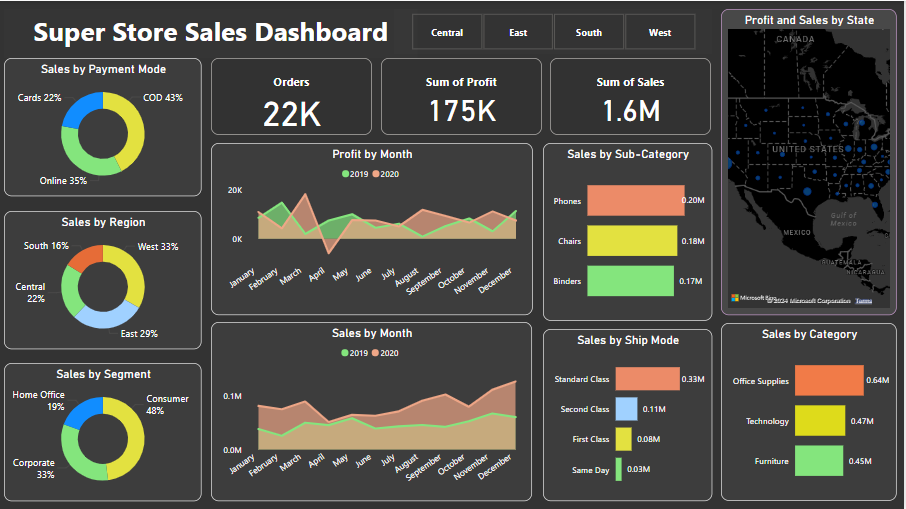

This screenshot's page, from the dashboard's own definition file:
{"tool":"powerbi","page":{"name":"Page 1","canvas":[1280,720],"ordinal":0},"visuals":[{"type":"clusteredBarChart","title":"Sales by Category","fields":{"Category":["SuperStore_Sales_Dataset.Category"],"Y":["Sum(SuperStore_Sales_Dataset.Sales)"]},"box":[1021.2,456.9,249.1,251.9],"z":0},{"type":"clusteredBarChart","title":"Sales by Sub-Category","fields":{"Category":["SuperStore_Sales_Dataset.Sub-Category"],"Y":["Sum(SuperStore_Sales_Dataset.Sales)"]},"box":[769.6,201.3,239.5,252.3],"z":1000},{"type":"clusteredBarChart","title":"Sales by Ship Mode","fields":{"Category":["SuperStore_Sales_Dataset.Ship Mode"],"Y":["Sum(SuperStore_Sales_Dataset.Sales)"]},"box":[769.6,464.9,239.5,243.8],"z":2000},{"type":"areaChart","title":"Sales by Month","fields":{"Y":["Sum(SuperStore_Sales_Dataset.Sales)"],"Series":["SuperStore_Sales_Dataset.Order Date.Variation.Date Hierarchy.Year"],"Category":["SuperStore_Sales_Dataset.Order Date.Variation.Date Hierarchy.Month","SuperStore_Sales_Dataset.Order Date.Variation.Date Hierarchy.Day"]},"box":[299.1,455,455,253.7],"z":3000},{"type":"areaChart","title":"Profit by Month","fields":{"Category":["SuperStore_Sales_Dataset.Order Date.Variation.Date Hierarchy.Month","SuperStore_Sales_Dataset.Order Date.Variation.Date Hierarchy.Day"],"Y":["Sum(SuperStore_Sales_Dataset.Profit)"],"Series":["SuperStore_Sales_Dataset.Order Date.Variation.Date Hierarchy.Year"]},"box":[298.7,200.9,455.6,243.6],"z":4000},{"type":"map","title":"Profit and Sales by State","fields":{"Category":["SuperStore_Sales_Dataset.State"],"Size":["Sum(SuperStore_Sales_Dataset.Sales)"]},"box":[1021.2,11,249.1,433.5],"z":5000},{"type":"donutChart","title":"Sales by Segment","fields":{"Category":["SuperStore_Sales_Dataset.Segment"],"Y":["Sum(SuperStore_Sales_Dataset.Sales)"]},"box":[5.7,513.4,280.3,195.9],"z":6000},{"type":"donutChart","title":"Sales by Region","fields":{"Category":["SuperStore_Sales_Dataset.Region"],"Y":["Sum(SuperStore_Sales_Dataset.Sales)"]},"box":[5.7,297.5,280.3,195.9],"z":7000},{"type":"donutChart","title":"Sales by Payment Mode","fields":{"Category":["SuperStore_Sales_Dataset.Payment Mode"],"Y":["Sum(SuperStore_Sales_Dataset.Sales)"]},"box":[5.7,80.1,280.3,195.9],"z":8000},{"type":"slicer","fields":{"Values":["SuperStore_Sales_Dataset.Region"]},"box":[557.8,11.4,450.5,64.4],"z":9000},{"type":"textbox","box":[5.7,11.4,586.4,68.6],"z":10000},{"type":"cardVisual","fields":{"Data":["Sum(SuperStore_Sales_Dataset.Quantity)"]},"box":[299.1,80.8,228.2,109.1],"z":11000},{"type":"cardVisual","fields":{"Data":["Sum(SuperStore_Sales_Dataset.Sales)"]},"box":[779.5,80.8,228.2,109.1],"z":12000},{"type":"cardVisual","fields":{"Data":["Sum(SuperStore_Sales_Dataset.Profit)"]},"box":[540,80.8,228.2,109.1],"z":13000}]}

Visuals, with their boxes in screenshot pixels (x1, y1, x2, y2), scaled from the page's 1280x720 canvas onto the 906x509 screenshot:
"Sales by Category" clusteredBarChart: bbox=[723, 323, 899, 501]
"Sales by Sub-Category" clusteredBarChart: bbox=[545, 142, 714, 321]
"Sales by Ship Mode" clusteredBarChart: bbox=[545, 329, 714, 501]
"Sales by Month" areaChart: bbox=[212, 322, 534, 501]
"Profit by Month" areaChart: bbox=[211, 142, 534, 314]
"Profit and Sales by State" map: bbox=[723, 8, 899, 314]
"Sales by Segment" donutChart: bbox=[4, 363, 202, 501]
"Sales by Region" donutChart: bbox=[4, 210, 202, 349]
"Sales by Payment Mode" donutChart: bbox=[4, 57, 202, 195]
slicer - SuperStore_Sales_Dataset.Region: bbox=[395, 8, 714, 54]
textbox: bbox=[4, 8, 419, 57]
cardVisual - Sum(SuperStore_Sales_Dataset.Quantity): bbox=[212, 57, 373, 134]
cardVisual - Sum(SuperStore_Sales_Dataset.Sales): bbox=[552, 57, 713, 134]
cardVisual - Sum(SuperStore_Sales_Dataset.Profit): bbox=[382, 57, 544, 134]
